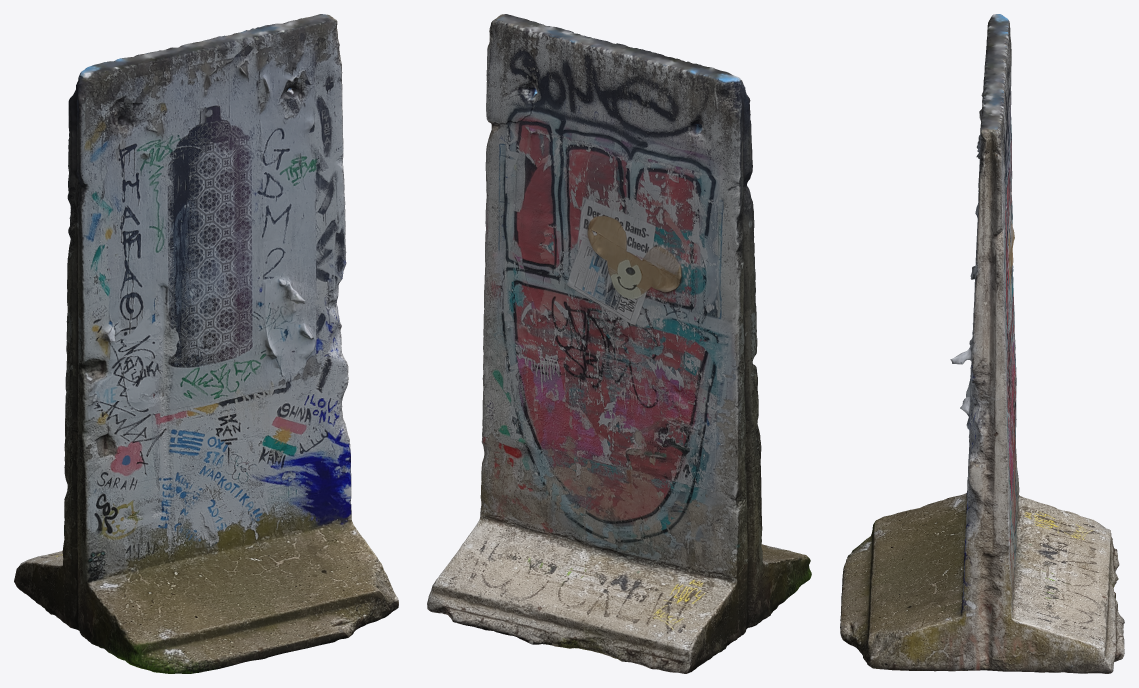
The model's file is modell_a.glb.
3 views of the same model, side by side, from view 1: azimuth 30°, elevation 25°; view 2: azimuth 150°, elevation 25°; view 3: azimuth 270°, elevation 25° (orthographic). The views are drawn at different scales.
Visible parts, largest first — view 1: Object_2; view 2: Object_2; view 3: Object_2.
Part boxes in pixels (box(x1,y1,x2,y2)): Object_2: box(14, 14, 398, 673); Object_2: box(427, 14, 811, 673); Object_2: box(840, 14, 1124, 673).
Size of the model in its own units: 17.9 by 35.51 by 16.86.
1 material, 1 textured.
